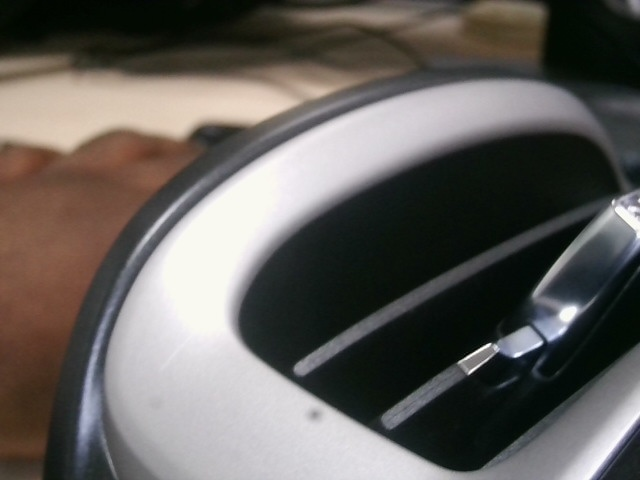NG: (157, 333, 206, 377)
